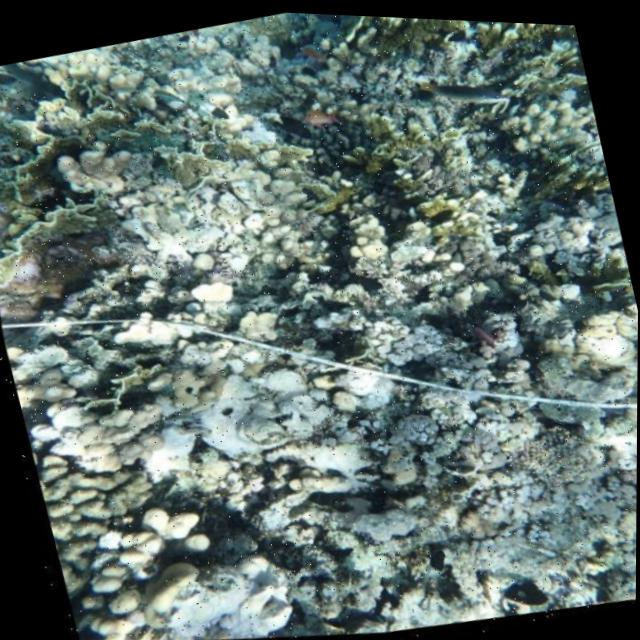Bleached Coral: (82, 140, 257, 303), (454, 435, 632, 569), (178, 530, 300, 640), (16, 380, 118, 491)
